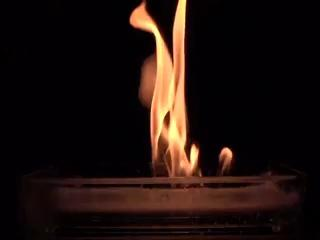Fire: (198, 152, 262, 195)
